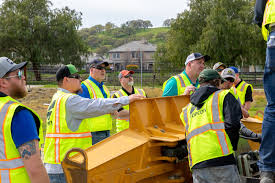vest: (1, 98, 44, 183), (183, 92, 231, 162), (50, 94, 92, 164), (116, 89, 145, 130), (91, 83, 112, 130), (236, 81, 253, 110), (174, 73, 195, 96)
